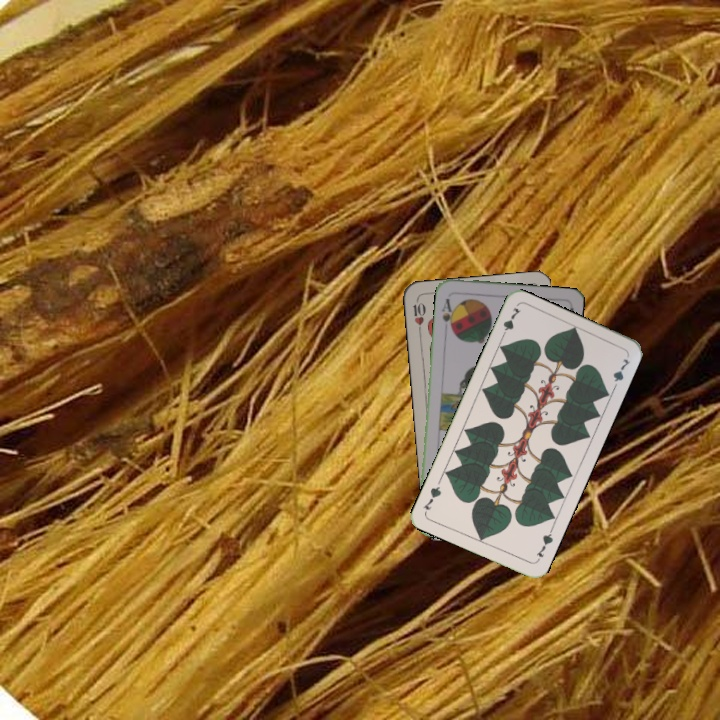G7: (497, 303, 523, 342), (532, 525, 556, 564)
H10: (409, 296, 427, 337)
SA: (438, 294, 457, 333)
